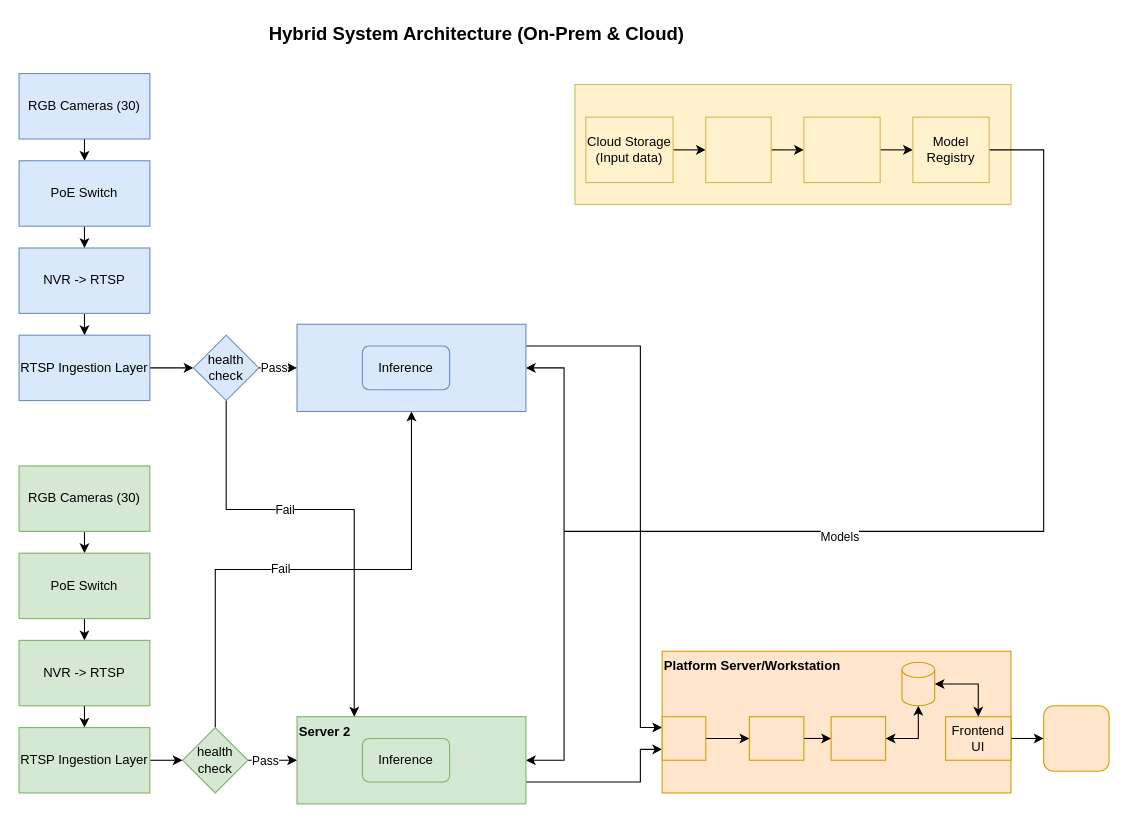
Some shapes in this 1128 by 823 pixel diagram are drawn without their labels. Each missing label, with the box of its shape:
Alerts: (1043, 705, 1109, 771)
Backend APIs: (830, 716, 886, 760)
Cloud Server: (574, 83, 1011, 204)
DB: (901, 661, 935, 706)
Kafka: (661, 716, 706, 760)
Rules Engine: (748, 716, 804, 760)
Server 1: (296, 323, 526, 411)
TensorRT Conversion: (803, 116, 880, 183)
Training: (705, 116, 771, 183)
